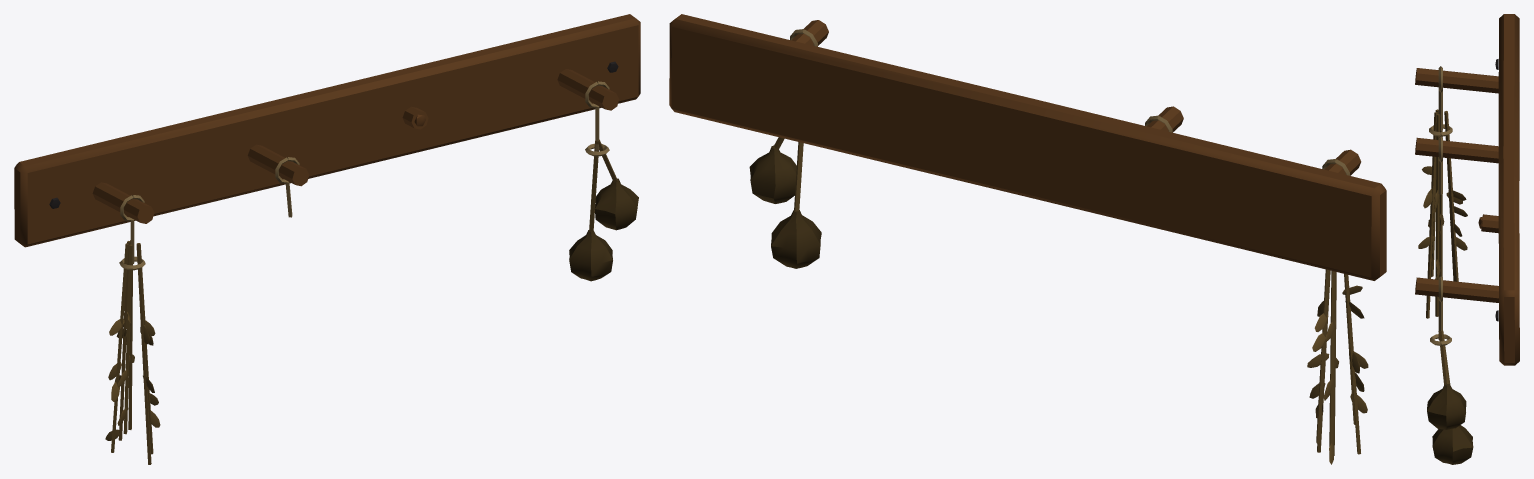
Rendered from kraeuterbuendel_kaputt.glb.
3 views of the same model, side by side, from view 1: azimuth 30°, elevation 25°; view 2: azimuth 150°, elevation 25°; view 3: azimuth 270°, elevation 25° (orthographic). The views are drawn at different scales.
Visible parts, largest first — view 1: kraeuterbuendel_kaputt; view 2: kraeuterbuendel_kaputt; view 3: kraeuterbuendel_kaputt.
Part boxes in pixels (x1,y1,x2,y2): kraeuterbuendel_kaputt: (14, 14, 640, 464); kraeuterbuendel_kaputt: (669, 14, 1386, 464); kraeuterbuendel_kaputt: (1415, 14, 1519, 464).
Size of the model in its own units: 0.8009 by 0.3556 by 0.1269.
